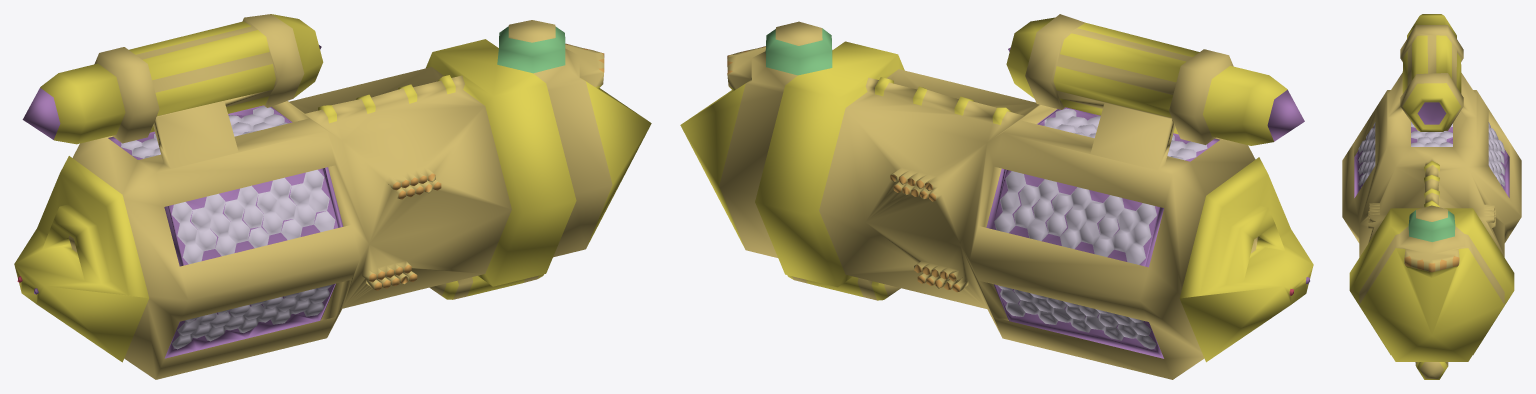
The model's file is shard.glb.
The picture shows the model from 3 angles, left to right: view 1: azimuth 30°, elevation 25°; view 2: azimuth 150°, elevation 25°; view 3: azimuth 270°, elevation 25°; orthographic projection. The views are drawn at different scales.
Visible parts, largest first — view 1: Shard current hull - authored COLOR_0 regions; view 2: Shard current hull - authored COLOR_0 regions; view 3: Shard current hull - authored COLOR_0 regions.
Boxes of the visible parts, x1,y1,x2,y2 form: Shard current hull - authored COLOR_0 regions: [14, 14, 651, 379]; Shard current hull - authored COLOR_0 regions: [680, 14, 1313, 379]; Shard current hull - authored COLOR_0 regions: [1342, 14, 1521, 379].
Bounding box in the file's own units: 4.5 × 2.16 × 1.63.
